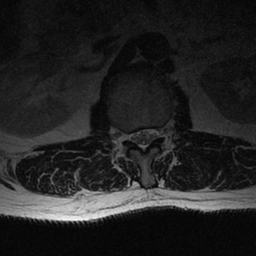CCS_normal: (138, 121, 147, 159)
LFS_normal: (156, 116, 166, 146)
LLS_normal: (147, 120, 156, 150)
RFS_normal: (121, 121, 130, 150)
RLS_normal: (130, 124, 138, 151)
